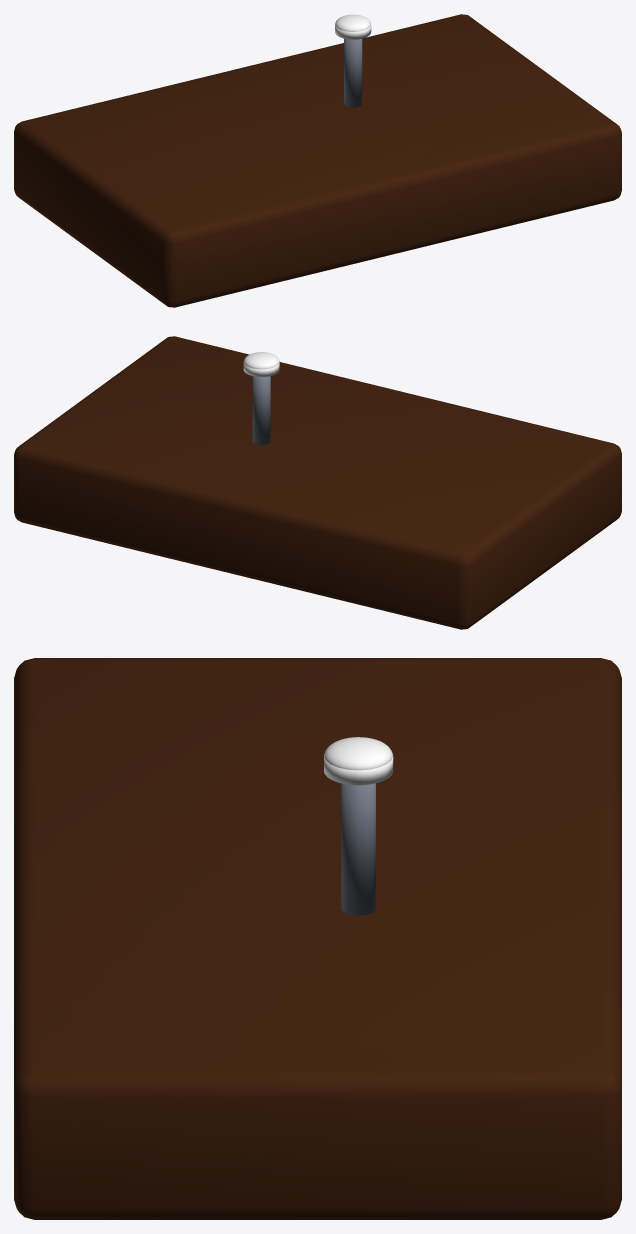
The model's file is nail-embedded-in-wood.obj.
The picture shows the model from 3 angles, top to bottom: view 1: azimuth 30°, elevation 25°; view 2: azimuth 150°, elevation 25°; view 3: azimuth 270°, elevation 25°; orthographic projection. The views are drawn at different scales.
Visible parts, largest first — view 1: nail-embedded-in-wood; view 2: nail-embedded-in-wood; view 3: nail-embedded-in-wood.
Part boxes in pixels (left/top/right/bottom): nail-embedded-in-wood: left=14, top=14, right=621, bottom=307; nail-embedded-in-wood: left=14, top=336, right=621, bottom=629; nail-embedded-in-wood: left=14, top=658, right=621, bottom=1219.
Size of the model in its own units: 0.5 by 0.1695 by 0.3.
